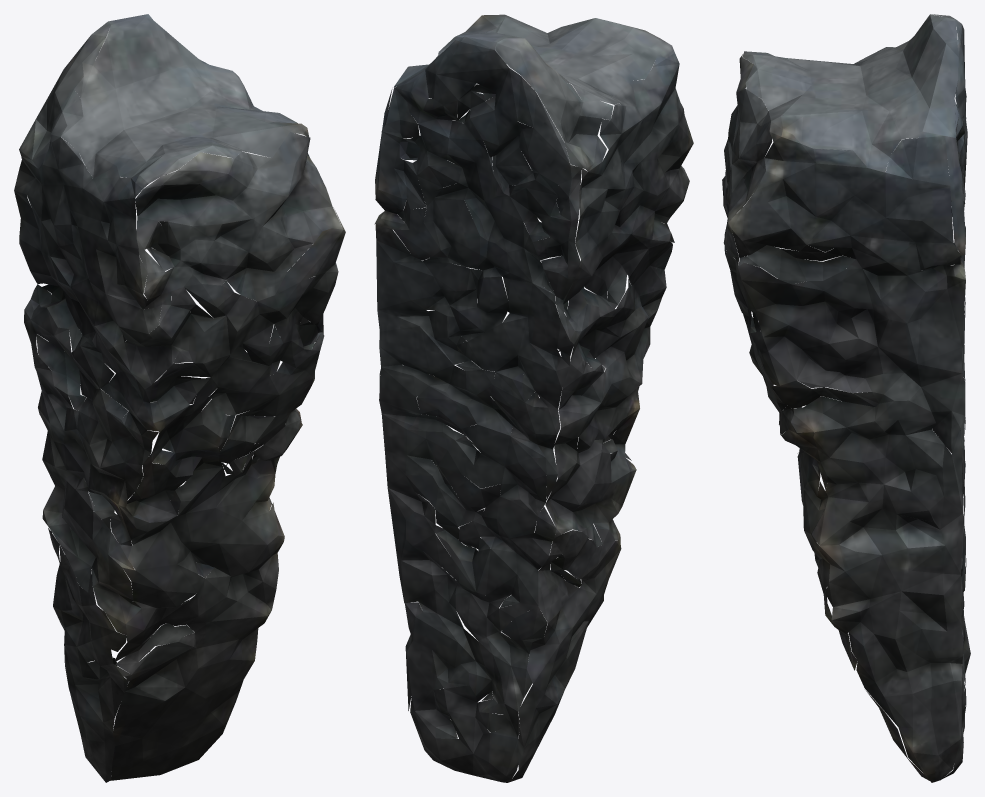
File: x-monolithes.glb
3 views of the same model, side by side, from view 1: azimuth 30°, elevation 25°; view 2: azimuth 150°, elevation 25°; view 3: azimuth 270°, elevation 25° (orthographic). The views are drawn at different scales.
Visible parts, largest first — view 1: geometry_0; view 2: geometry_0; view 3: geometry_0.
Boxes of the visible parts, x1,y1,x2,y2 form: geometry_0: [14, 14, 345, 782]; geometry_0: [374, 14, 693, 782]; geometry_0: [722, 14, 970, 782].
Bounding box in the file's own units: 0.3076 × 1 × 0.3092.
1 material, 1 textured.
